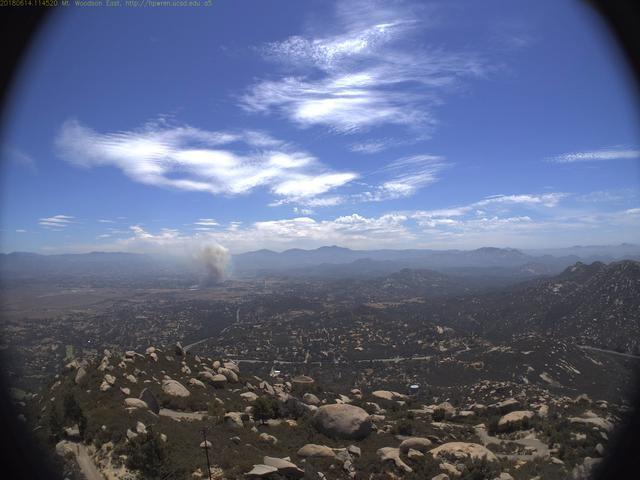smoke: (192, 237, 239, 297)
